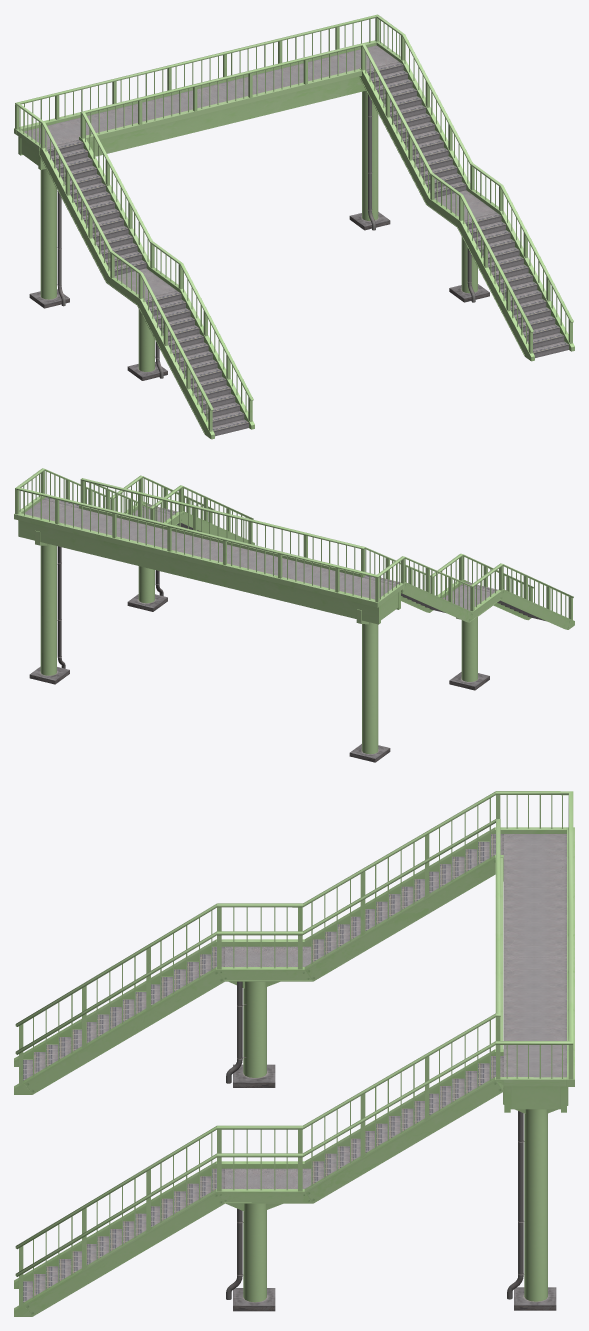
The model's file is sidewalk_bridge.obj.
3 views of the same model, one above another, from view 1: azimuth 30°, elevation 25°; view 2: azimuth 150°, elevation 25°; view 3: azimuth 270°, elevation 25° (orthographic). The views are drawn at different scales.
Parts seen in each view (by area): view 1: sidewalk_bridge_01; view 2: sidewalk_bridge_01; view 3: sidewalk_bridge_01.
Boxes of the visible parts, <box> form: sidewalk_bridge_01: <box>14,14,574,439</box>; sidewalk_bridge_01: <box>14,468,574,762</box>; sidewalk_bridge_01: <box>14,791,574,1316</box>.
Bounding box in the file's own units: 18 × 9.11 × 16.91.
Materials: 1 (1 with a texture image).
